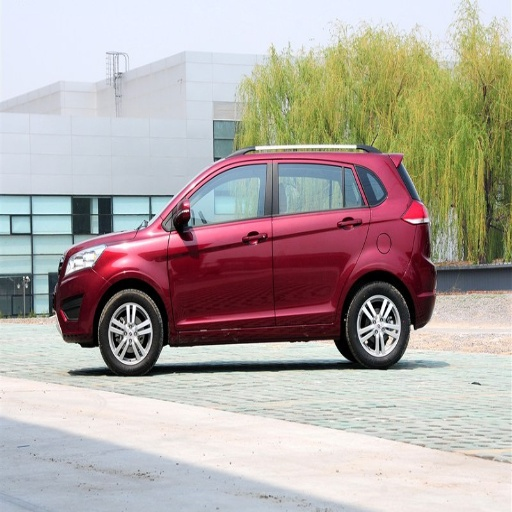back_left_door: (276, 159, 366, 324)
front_left_door: (168, 160, 275, 331)
